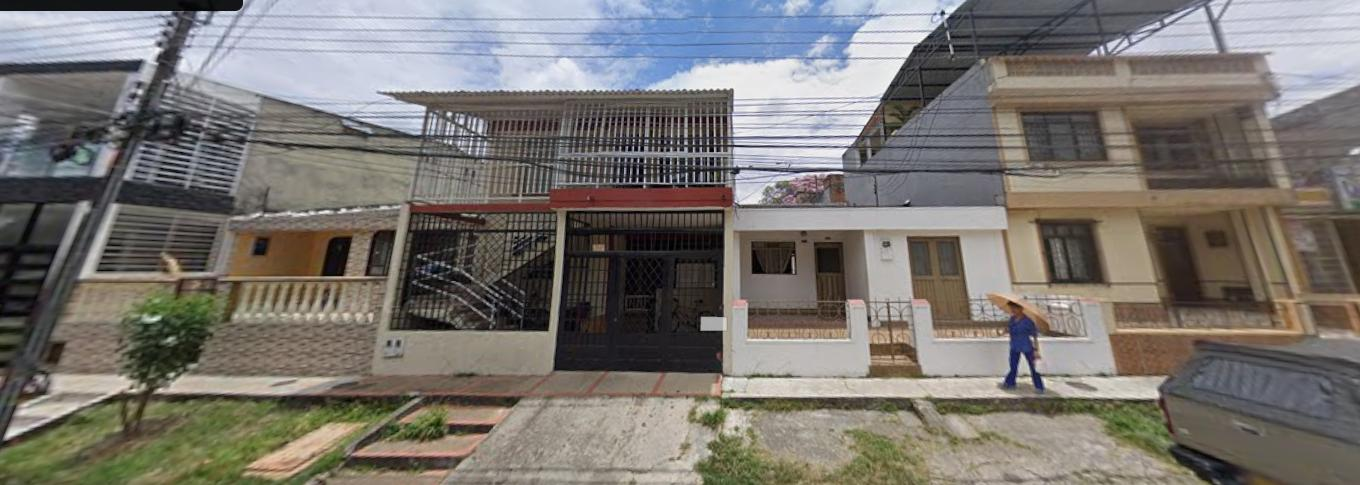casa: (847, 47, 1318, 374), (373, 90, 736, 373), (725, 207, 1013, 377), (1046, 297, 1114, 373)
poste: (0, 11, 197, 427)
